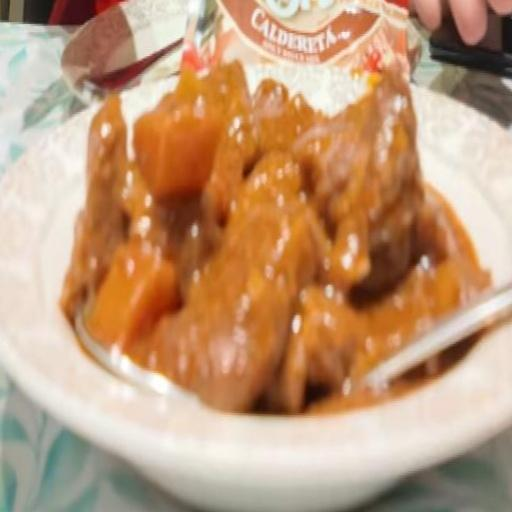pork caldereta: (64, 60, 489, 418)
